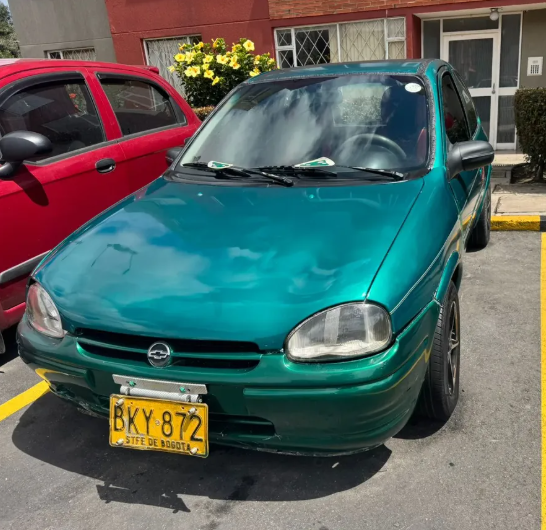placa: (106, 389, 211, 459)
